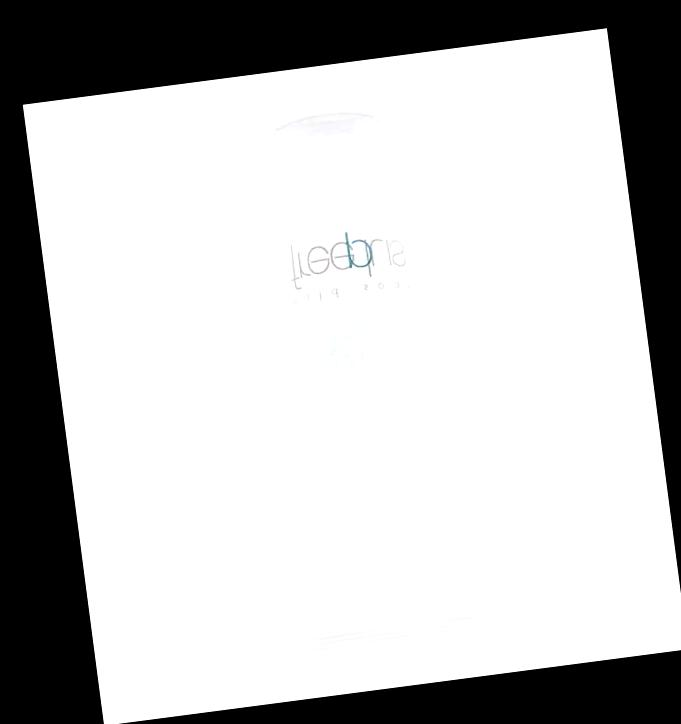cosmetic: (225, 97, 515, 664)
